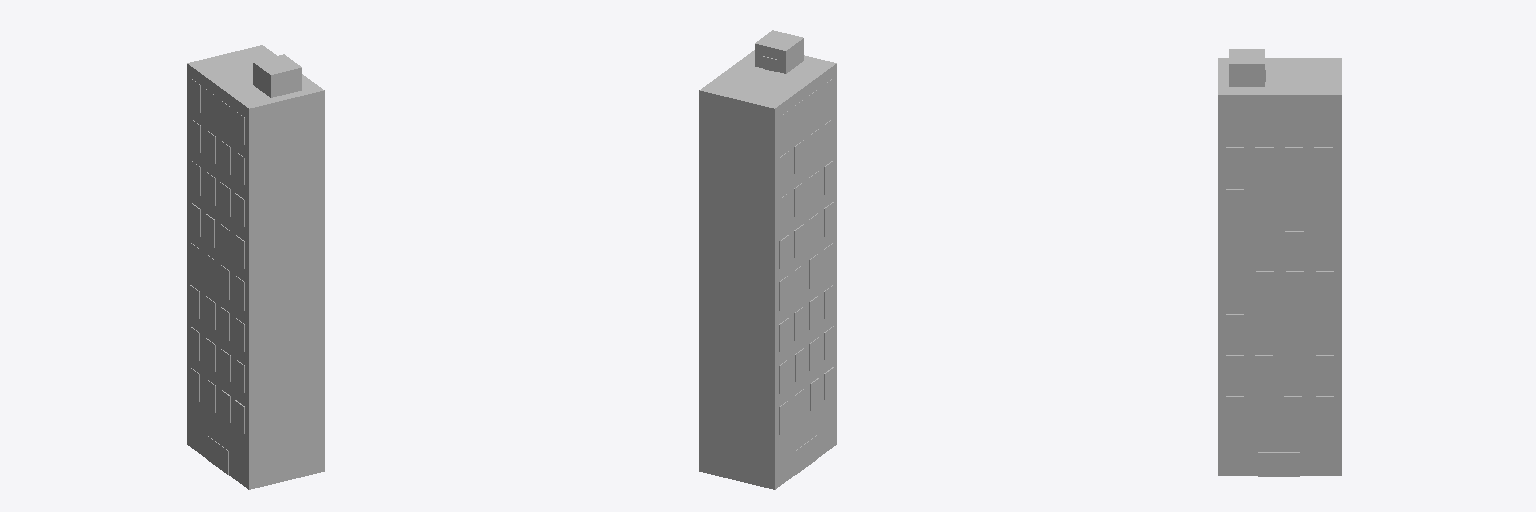
File: billnormal.obj
The picture shows the model from 3 angles: view 1: azimuth 30°, elevation 25°; view 2: azimuth 150°, elevation 25°; view 3: azimuth 270°, elevation 25°; orthographic projection.
Visible parts, largest first — view 1: Cube; view 2: Cube; view 3: Cube.
Boxes of the visible parts, x1,y1,x2,y2 form: Cube: [187, 45, 324, 489]; Cube: [699, 30, 836, 489]; Cube: [1218, 49, 1341, 476].
Bounding box in the file's own units: 4.97 × 24.52 × 6.83.